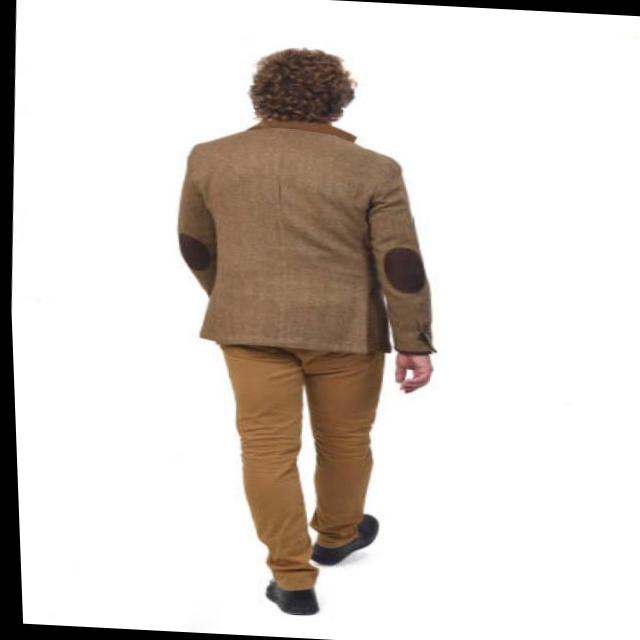no helmet: (227, 33, 383, 130)
